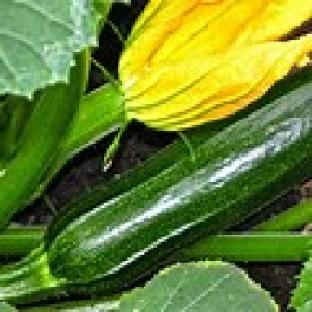Zucchini: (0, 71, 311, 301), (0, 52, 88, 228)
